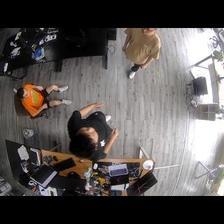normal: (67, 105, 117, 157), (120, 28, 160, 81), (16, 83, 71, 110)
